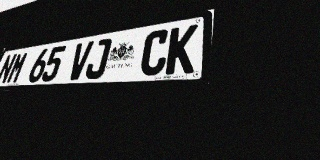5: (40, 45, 66, 82)
6: (26, 48, 52, 83)
C: (138, 28, 170, 76)
J: (83, 38, 113, 79)
K: (165, 24, 198, 75)
M: (5, 51, 29, 84)
N: (0, 53, 18, 85)
V: (66, 41, 94, 80)
